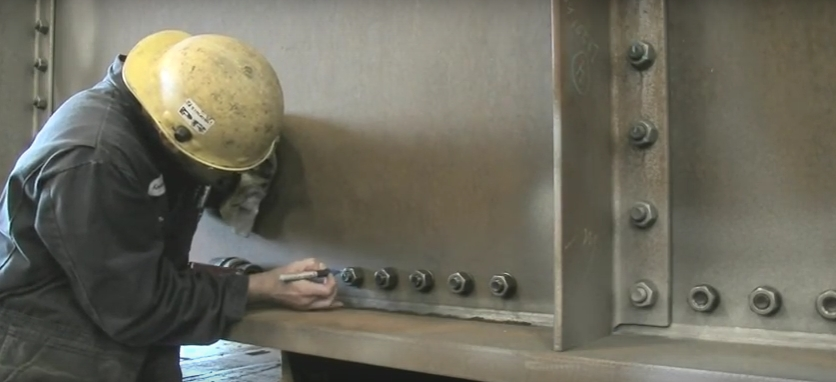bolt: (747, 287, 782, 319), (686, 283, 720, 314), (624, 120, 658, 151), (628, 280, 660, 311), (625, 41, 656, 72), (627, 199, 657, 231), (813, 285, 836, 326), (487, 272, 517, 301), (407, 267, 436, 295), (446, 271, 474, 297), (373, 267, 397, 292), (340, 265, 363, 289), (33, 95, 49, 114), (35, 18, 51, 37), (35, 58, 49, 75)
